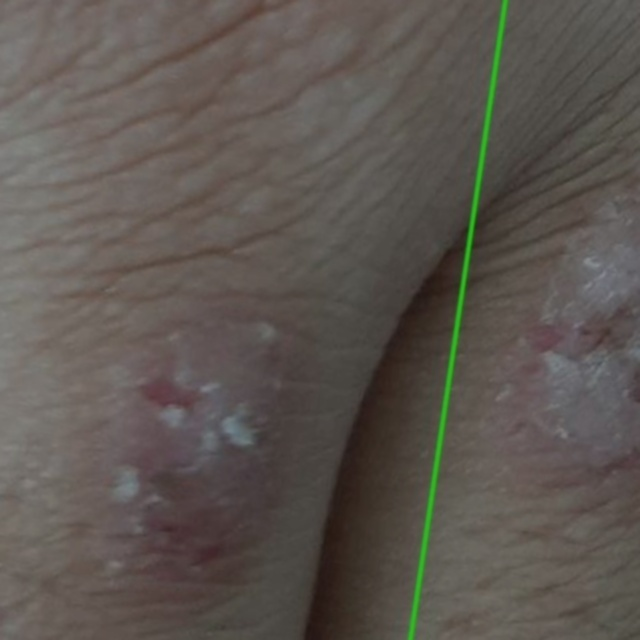Contact Dermatitis: (0, 0, 505, 639)
